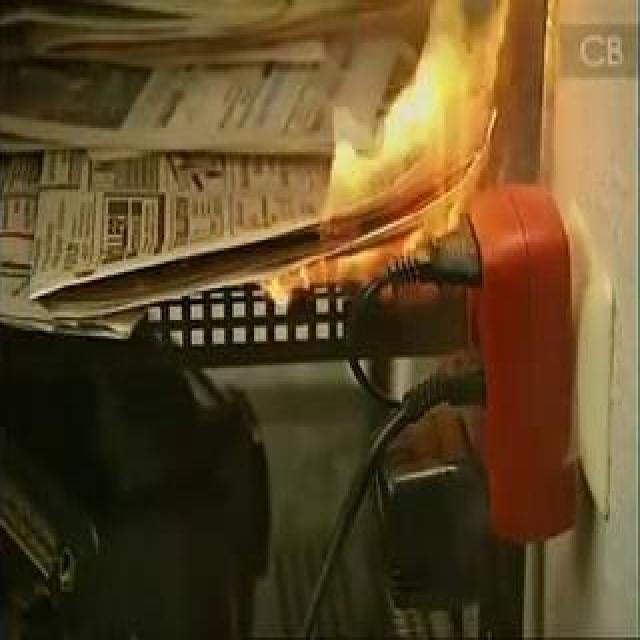Fire: (261, 1, 535, 298)
